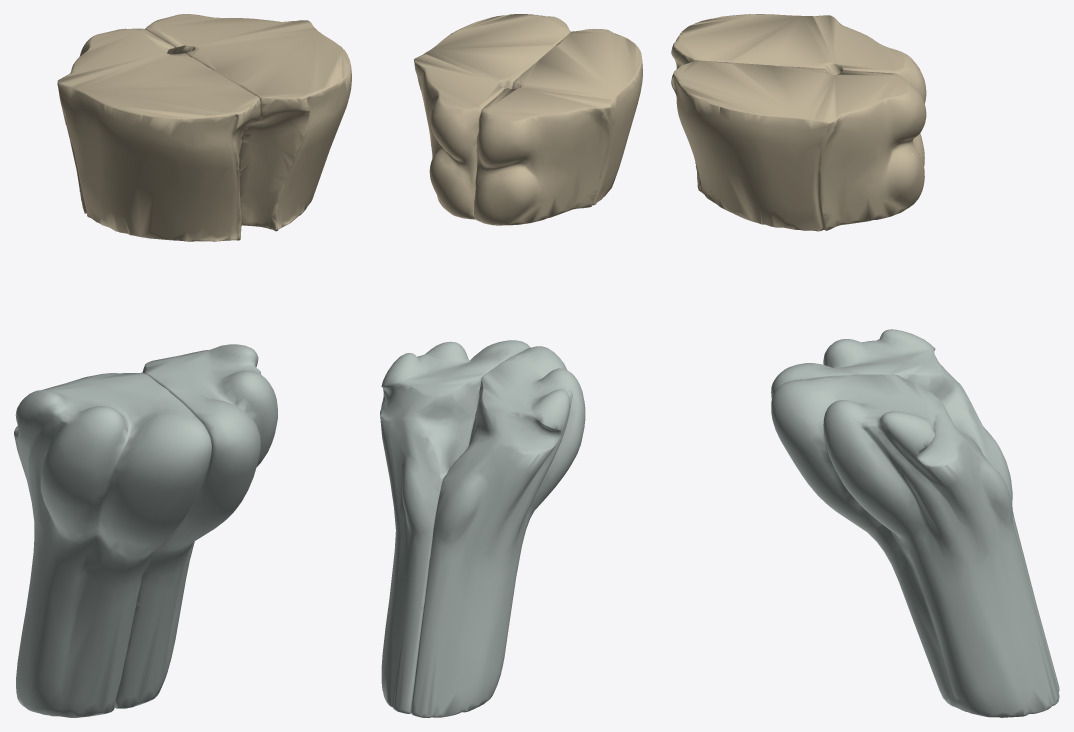
Rendered from brainstem-core-mobile.glb.
3 renders of one model, left to right at view 1: azimuth 30°, elevation 25°; view 2: azimuth 150°, elevation 25°; view 3: azimuth 270°, elevation 25°, orthographic. The views are drawn at different scales.
Parts seen in each view (by area): view 1: organ.medulla-oblongata, organ.midbrain; view 2: organ.medulla-oblongata, organ.midbrain; view 3: organ.medulla-oblongata, organ.midbrain.
Boxes of the visible parts, bbox=[...] form: organ.medulla-oblongata: bbox=[14, 344, 277, 717]; organ.midbrain: bbox=[57, 14, 351, 241]; organ.medulla-oblongata: bbox=[380, 340, 585, 717]; organ.midbrain: bbox=[414, 14, 642, 225]; organ.medulla-oblongata: bbox=[771, 329, 1059, 717]; organ.midbrain: bbox=[671, 14, 926, 231].
Bounding box in the file's own units: 0.0285 × 0.0786 × 0.0434.
